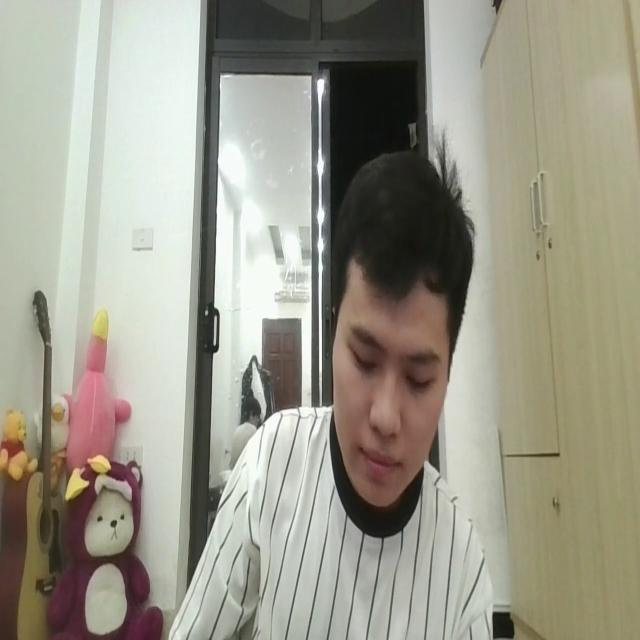student: (168, 135, 494, 640)
